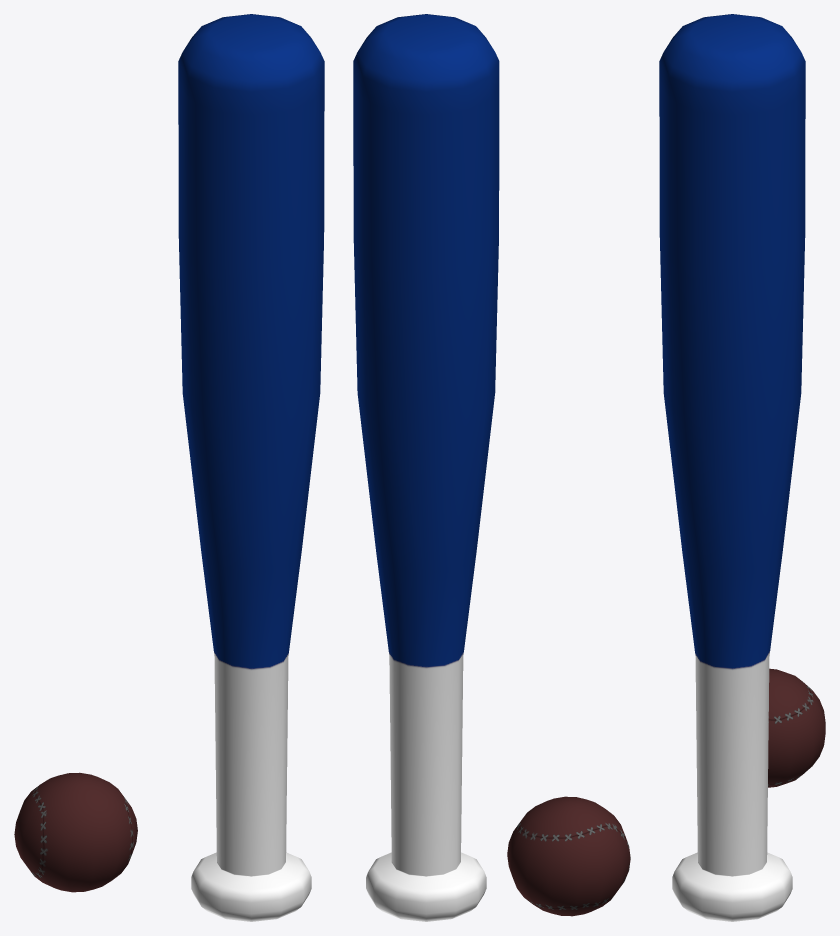
The model's file is Bong Chay_Gay.fbx.
3 renders of one model, left to right at view 1: azimuth 30°, elevation 25°; view 2: azimuth 150°, elevation 25°; view 3: azimuth 270°, elevation 25°, orthographic.
Parts seen in each view (by area): view 1: Gay, Bng_chay; view 2: Gay, Bng_chay; view 3: Gay, Bng_chay.
Boxes of the visible parts, x1,y1,x2,y2 form: Gay: (178,14,324,921); Bng_chay: (14,772,137,892); Gay: (353,14,499,921); Bng_chay: (507,796,630,916); Gay: (659,14,805,921); Bng_chay: (768,668,825,787).
Bounding box in the file's own units: 3.63 × 10.96 × 1.89.
Materials: 1 (1 with a texture image).
